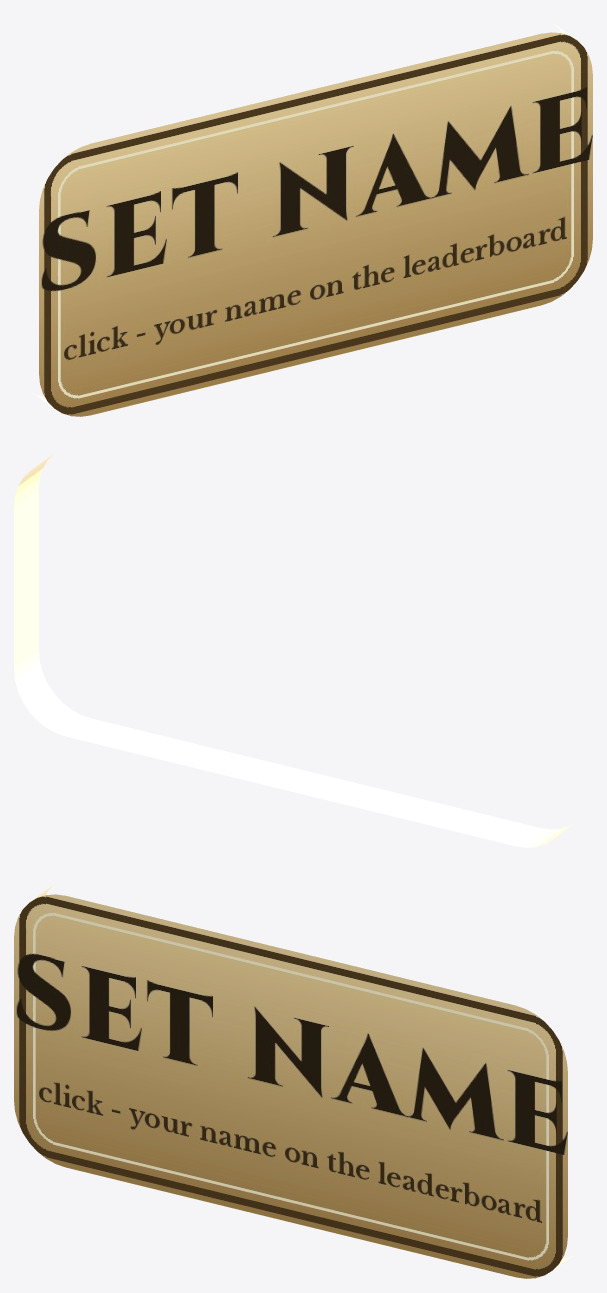
Rendered from mw_btn_setname_big.glb.
3 views of the same model, one above another, from view 1: azimuth 30°, elevation 25°; view 2: azimuth 150°, elevation 25°; view 3: azimuth 330°, elevation 25° (orthographic).
Visible parts, largest first — view 1: btn; view 2: btn; view 3: btn.
Part boxes in pixels (x1,y1,x2,y2): btn: (31, 23, 592, 416); btn: (14, 454, 575, 847); btn: (14, 885, 575, 1278).
Bounding box in the file's own units: 0.64 × 0.3 × 0.05.
Materials: 2 (1 with a texture image).
